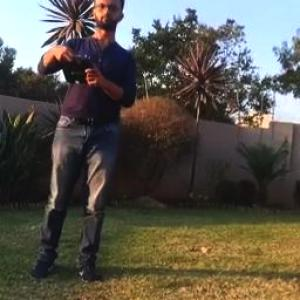follow: (23, 0, 141, 289)
